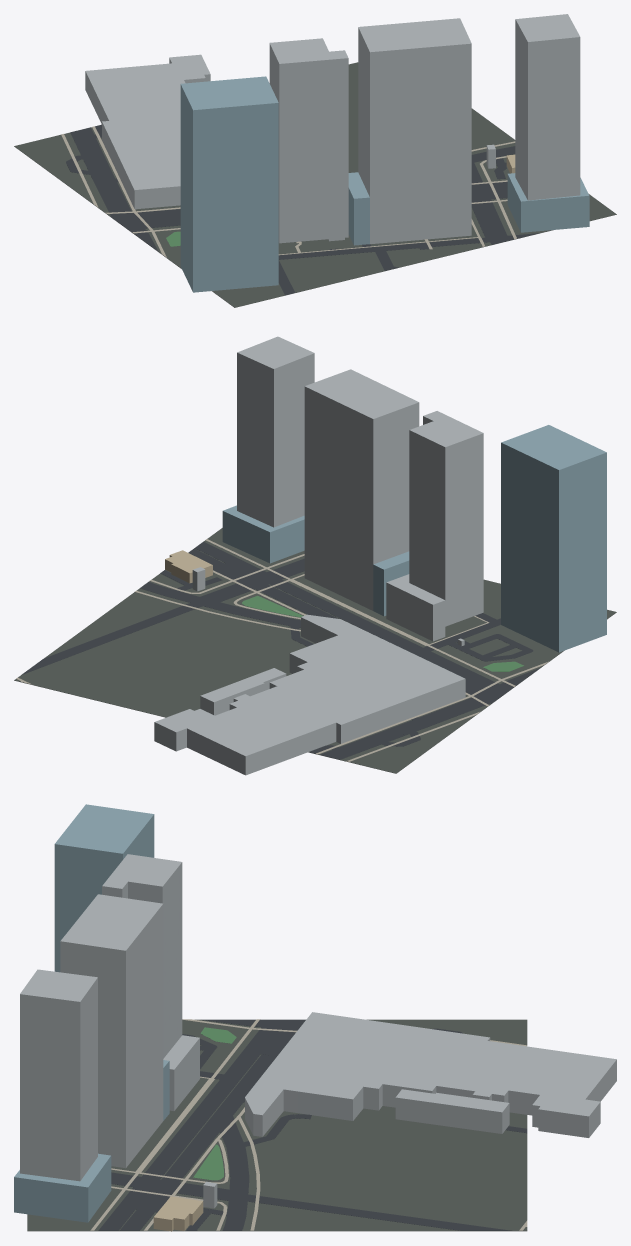
Rendered from tile_004_008.glb.
3 renders of one model, top to bottom at view 1: azimuth 30°, elevation 25°; view 2: azimuth 150°, elevation 25°; view 3: azimuth 270°, elevation 25°, orthographic. The views are drawn at different scales.
Visible parts, largest first — view 1: tile_004_008_buildings_neutral, tile_004_008_buildings_office, tile_004_008_ground, tile_004_008_roads, tile_004_008_paths; view 2: tile_004_008_buildings_neutral, tile_004_008_ground, tile_004_008_buildings_office, tile_004_008_roads, tile_004_008_paths, tile_004_008_buildings_retail, tile_004_008_open_spaces; view 3: tile_004_008_buildings_neutral, tile_004_008_ground, tile_004_008_roads, tile_004_008_buildings_office, tile_004_008_paths, tile_004_008_buildings_retail, tile_004_008_open_spaces.
Boxes of the visible parts, x1,y1,x2,y2 form: tile_004_008_buildings_neutral: [85, 14, 580, 244]; tile_004_008_buildings_office: [180, 76, 589, 292]; tile_004_008_ground: [14, 62, 616, 307]; tile_004_008_roads: [66, 124, 539, 295]; tile_004_008_paths: [61, 126, 588, 257]; tile_004_008_buildings_neutral: [154, 336, 483, 775]; tile_004_008_ground: [14, 528, 616, 773]; tile_004_008_buildings_office: [222, 425, 606, 652]; tile_004_008_roads: [14, 541, 540, 759]; tile_004_008_paths: [16, 539, 548, 761]; tile_004_008_buildings_retail: [165, 550, 212, 583]; tile_004_008_open_spaces: [242, 595, 523, 671]; tile_004_008_buildings_neutral: [20, 854, 616, 1208]; tile_004_008_ground: [27, 1019, 527, 1231]; tile_004_008_roads: [98, 1019, 527, 1230]; tile_004_008_buildings_office: [14, 804, 169, 1222]; tile_004_008_paths: [90, 1019, 527, 1230]; tile_004_008_buildings_retail: [153, 1196, 203, 1231]; tile_004_008_open_spaces: [193, 1027, 236, 1180].
Bounding box in the file's own units: 261 × 120 × 302.
